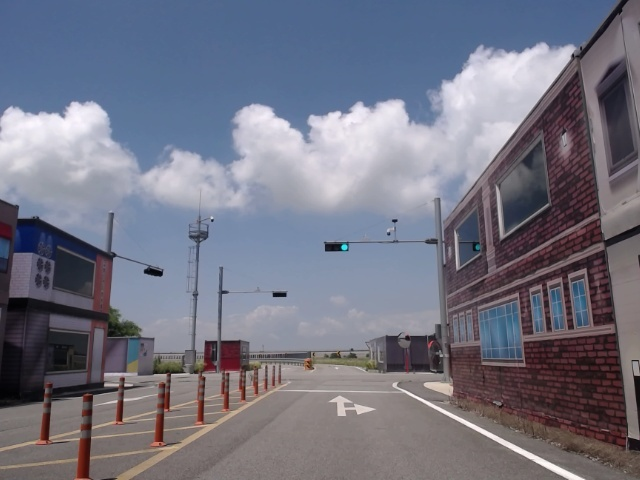green_3: (326, 242, 349, 251)
